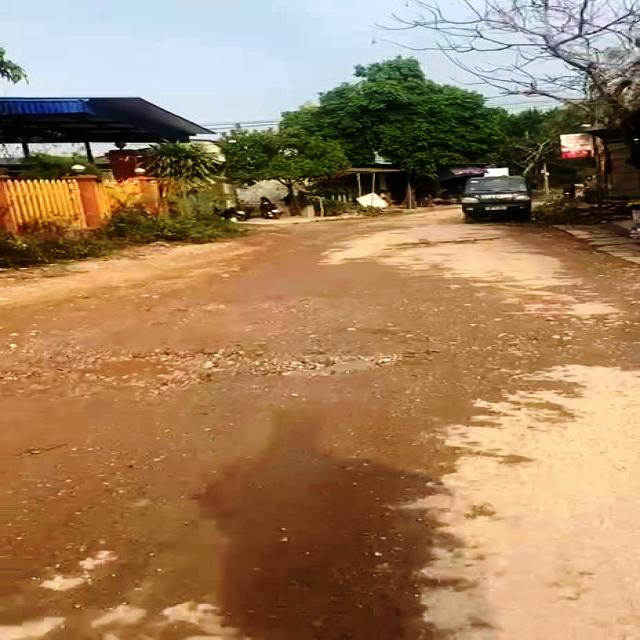pothole: (68, 342, 242, 392), (268, 348, 419, 378)
